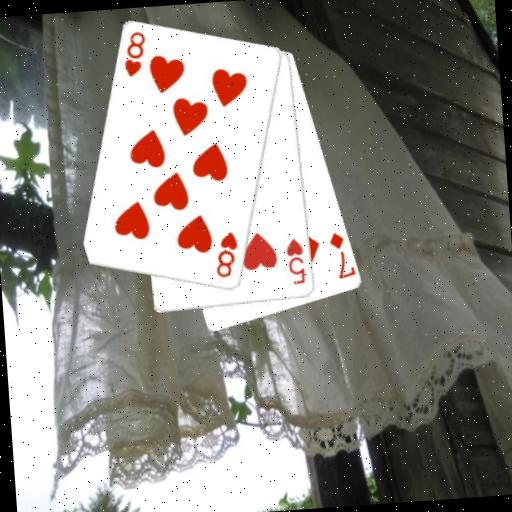5H: (283, 236, 308, 288)
7D: (326, 228, 356, 282)
8H: (211, 229, 242, 281), (119, 28, 149, 80)
